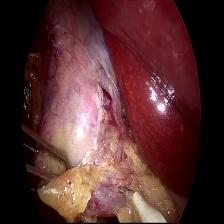Grasper: (20, 122, 72, 188)
Hook: (118, 183, 167, 224)
